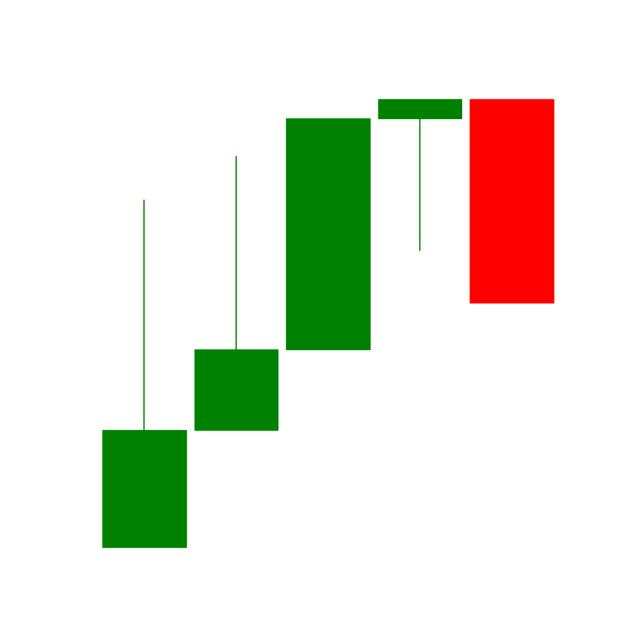Bearish Marubozu: (471, 100, 556, 302)
Bullish Marubozu: (284, 118, 370, 349)
